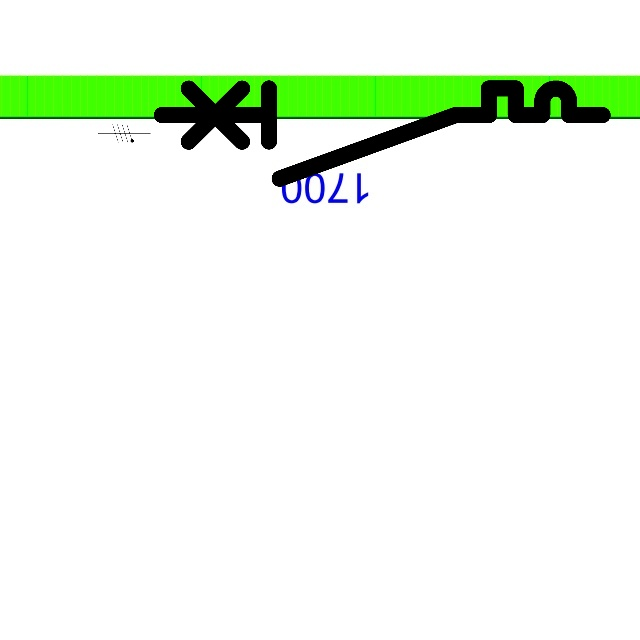interruptor_termomagnetico: (150, 77, 614, 190)
